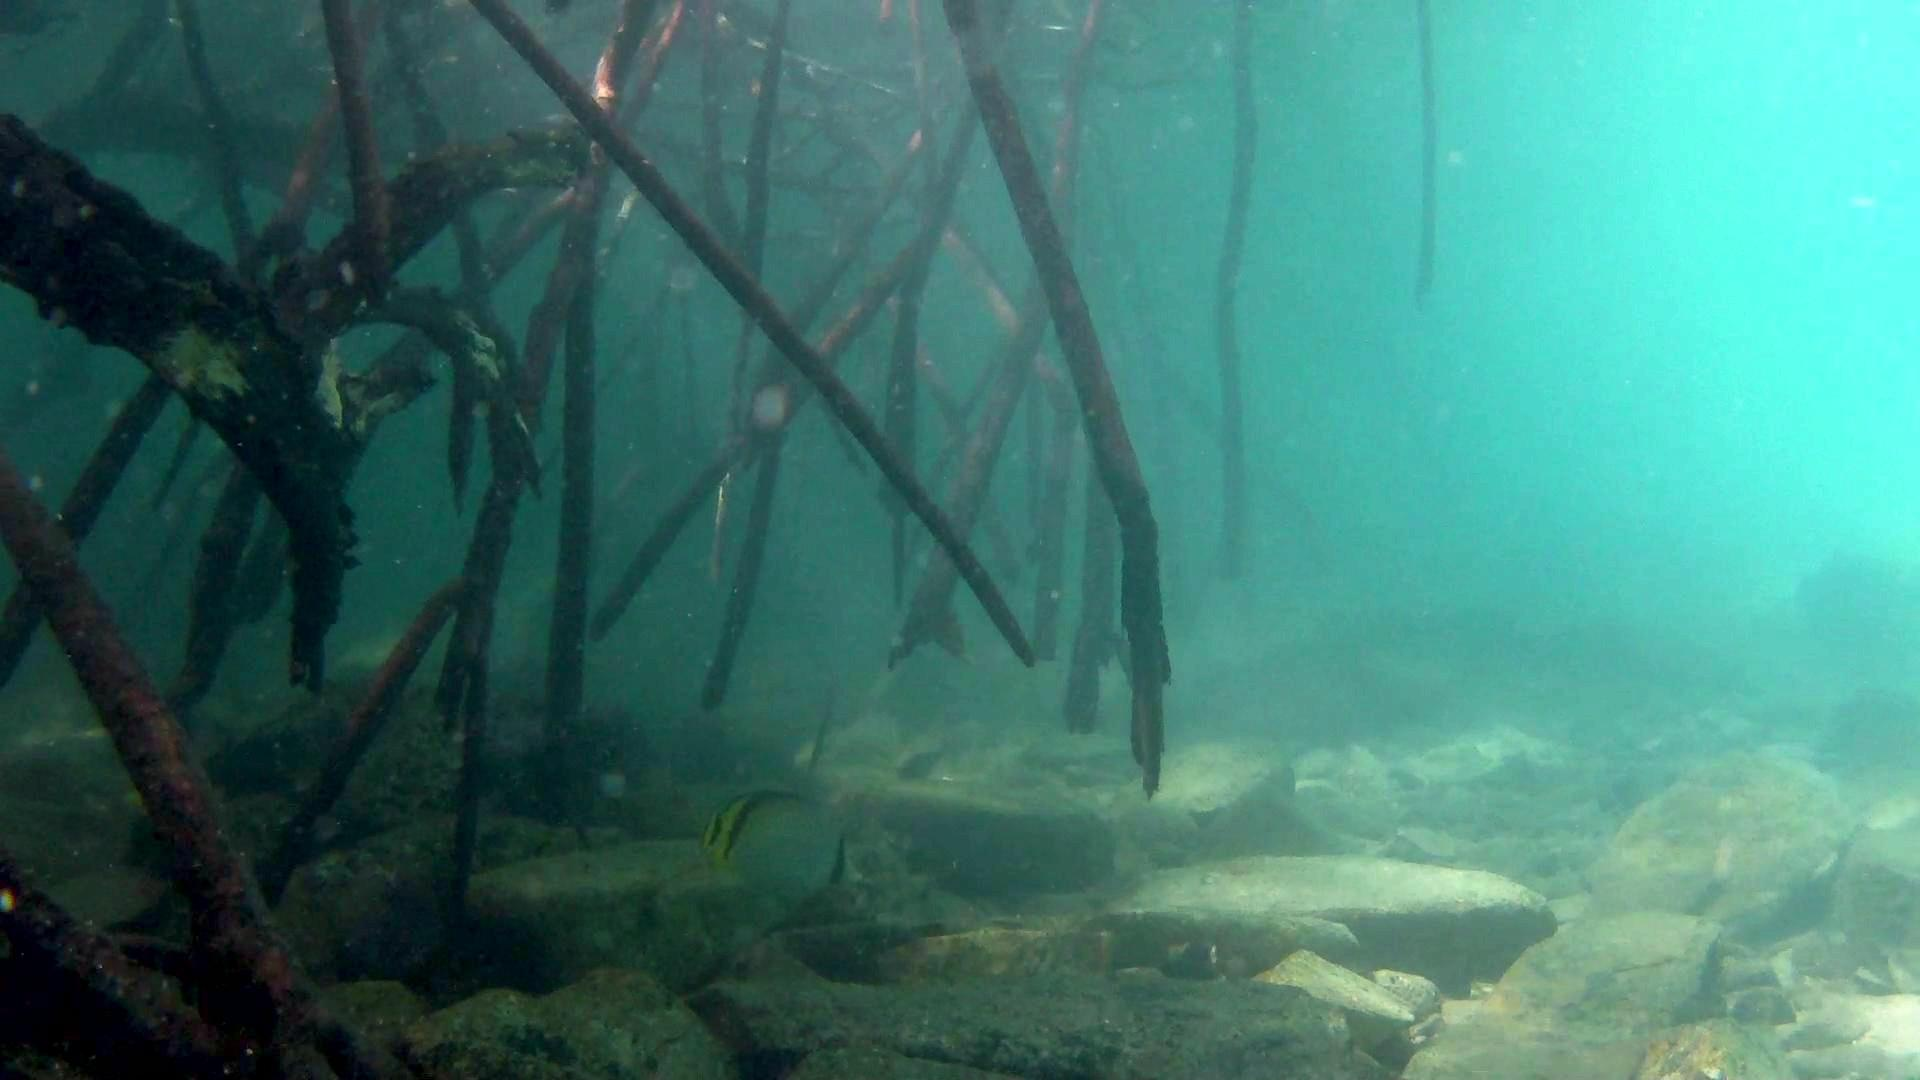chaetodon vagabundus: (699, 785, 867, 910)
